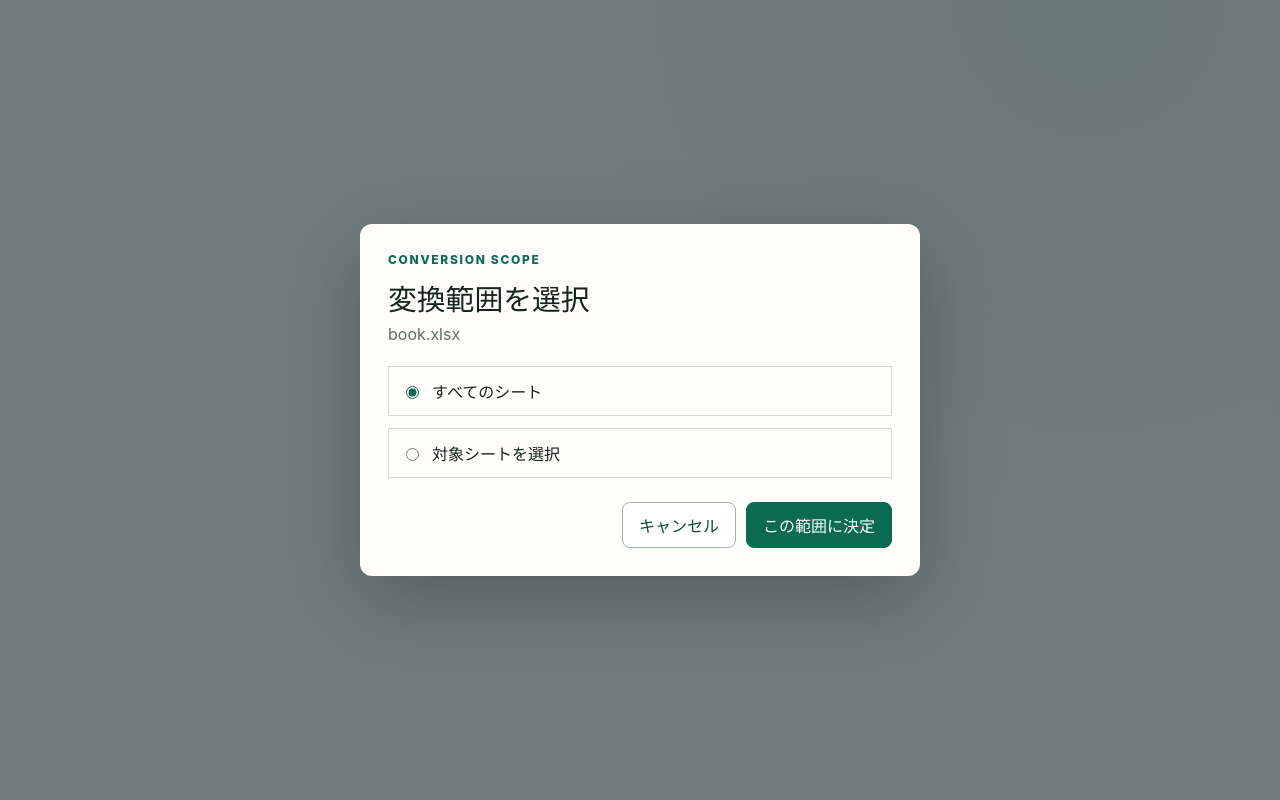
Test: SelectionDialog › Excelの非表示シートを明示し、0件選択を拒否する
Click the radio button labelled "対象シートを選択" at [412, 454], box x1=406 y1=448 x2=419 y2=461
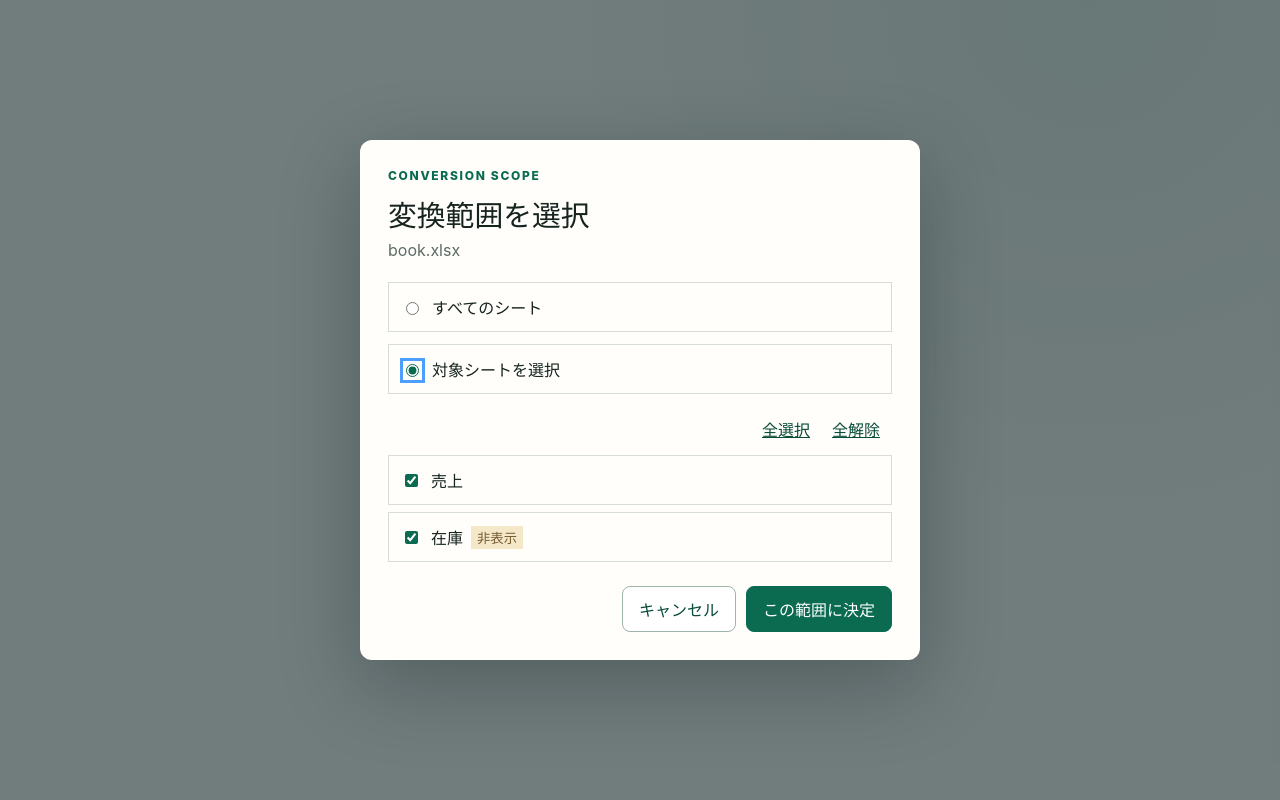
Expected: the text "非表示" is shown, x1=471 y1=526 x2=523 y2=548
Click the button "全解除" at [856, 429], box x1=826 y1=416 x2=886 y2=442
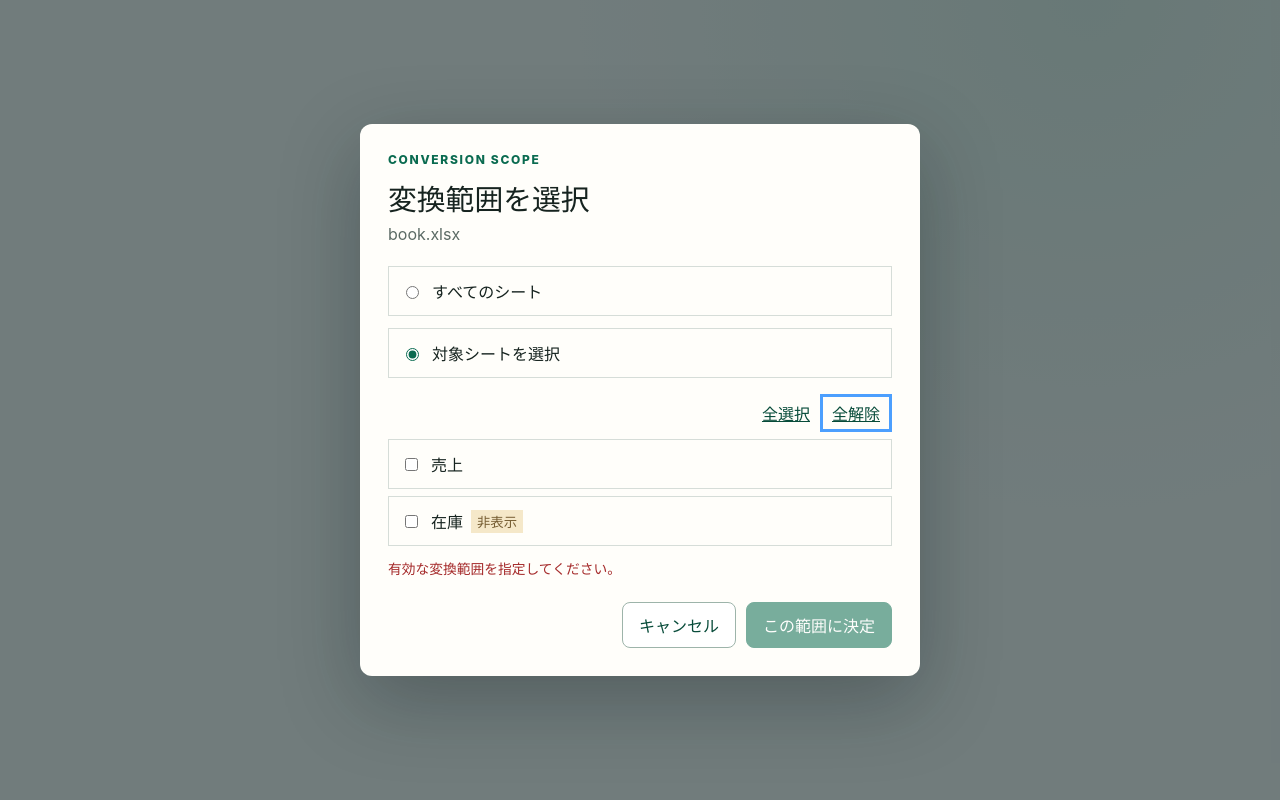
Expected: the button "この範囲に決定" is disabled, x1=746 y1=602 x2=892 y2=648
